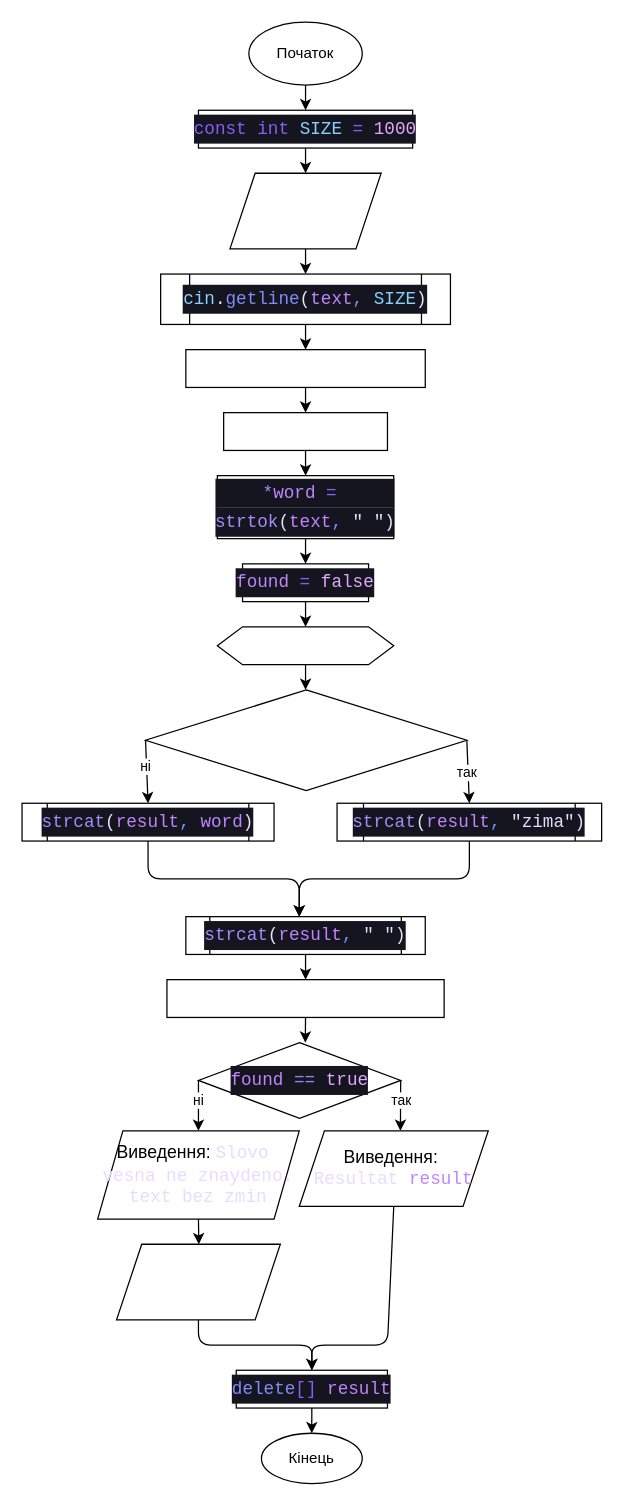
Some shapes in this 624 by 1506 pixel diagram are drawn without their labels. The shapes that lost their labels are listed below. From the top down, each one's box as (x1, y1, x2, y2) in pixels, then its label:
(229, 172, 381, 249): Виведення: Vvedit text
(185, 348, 425, 387): result = new char [ SIZE ]
(222, 411, 387, 450): result [ 0 ] = ' \0 '
(216, 626, 394, 665): word ≠ nullptr
(144, 689, 467, 791): strcmp ( word , "vesna" ) == 0
(166, 978, 444, 1017): word = strtok ( nullptr , " " )
(115, 1243, 280, 1320): Виведення: Vvedeny text result
